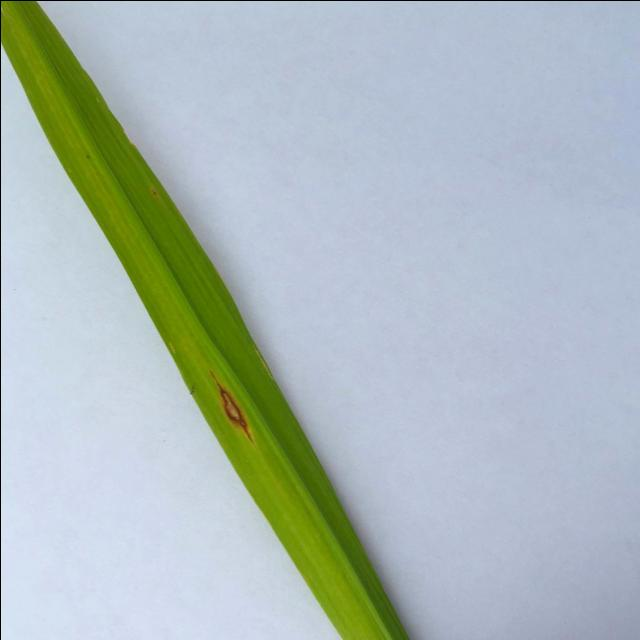Leaf blast: (0, 0, 491, 640)
